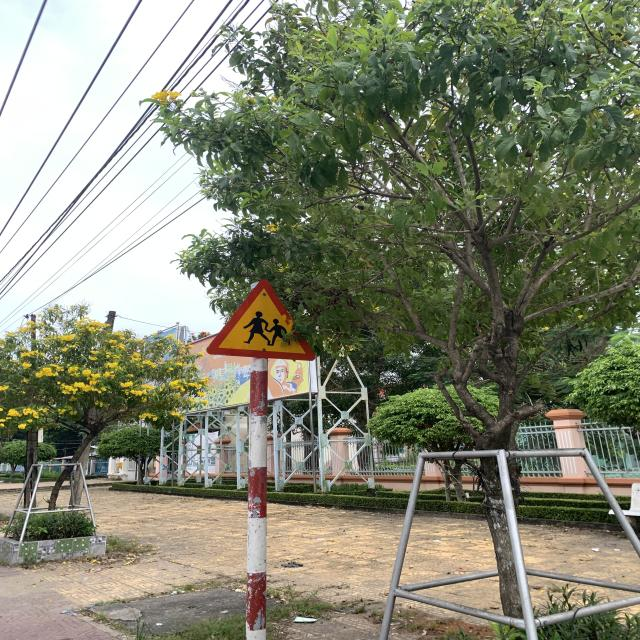Vong_Xuyen: (204, 277, 316, 361)
